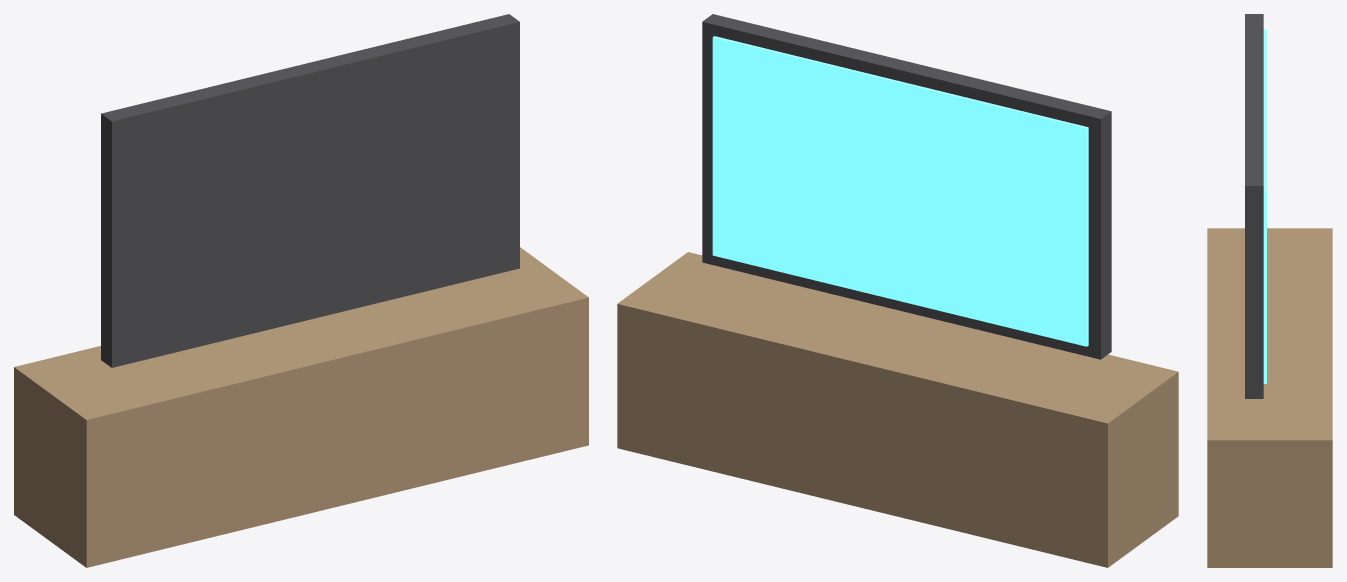
The model's file is TVStand.fbx.
3 renders of one model, left to right at view 1: azimuth 30°, elevation 25°; view 2: azimuth 150°, elevation 25°; view 3: azimuth 270°, elevation 25°, orthographic. The views are drawn at different scales.
Parts seen in each view (by area): view 1: TVStand_Mesh; view 2: TVStand_Mesh; view 3: TVStand_Mesh.
Part boxes in pixels (x1,y1,x2,y2): TVStand_Mesh: (14,14,588,567); TVStand_Mesh: (617,14,1178,567); TVStand_Mesh: (1207,14,1332,567).
Size of the model in its own units: 1.6 by 0.4 by 1.27.
